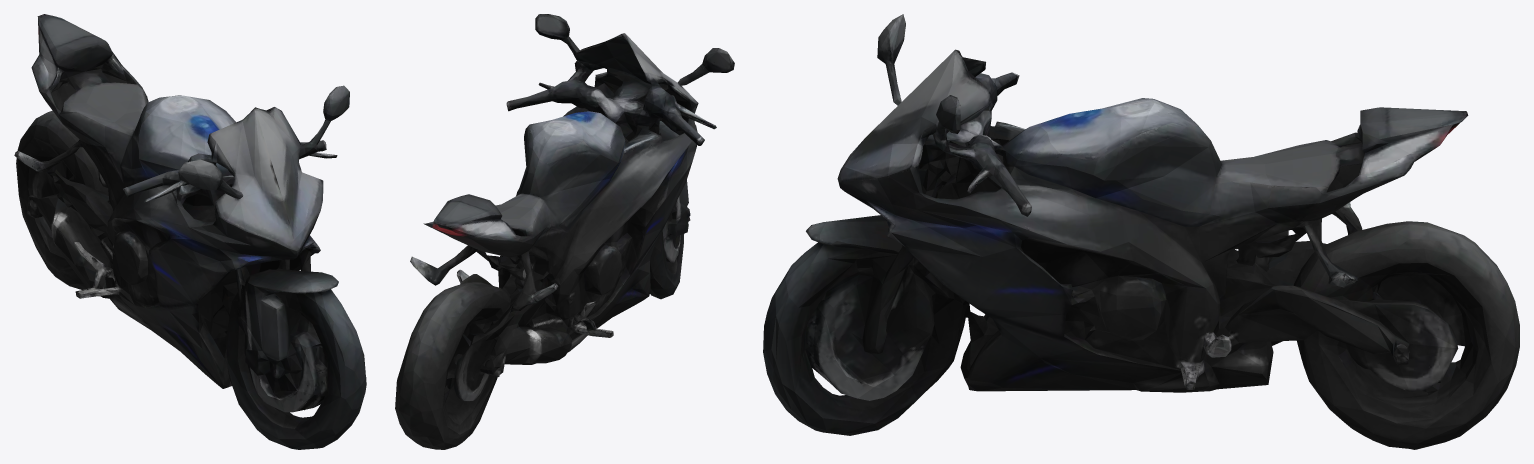
The picture shows the model from 3 angles, left to right: view 1: azimuth 30°, elevation 25°; view 2: azimuth 150°, elevation 25°; view 3: azimuth 270°, elevation 25°; orthographic projection. The views are drawn at different scales.
Parts seen in each view (by area): view 1: geometry_0; view 2: geometry_0; view 3: geometry_0.
Boxes of the visible parts, x1=… form: geometry_0: x1=14, y1=14, x2=366, y2=449; geometry_0: x1=395, y1=14, x2=734, y2=449; geometry_0: x1=763, y1=14, x2=1519, y2=449.
Bounding box in the file's own units: 0.393 × 0.5707 × 0.9988.
1 material, 1 textured.
